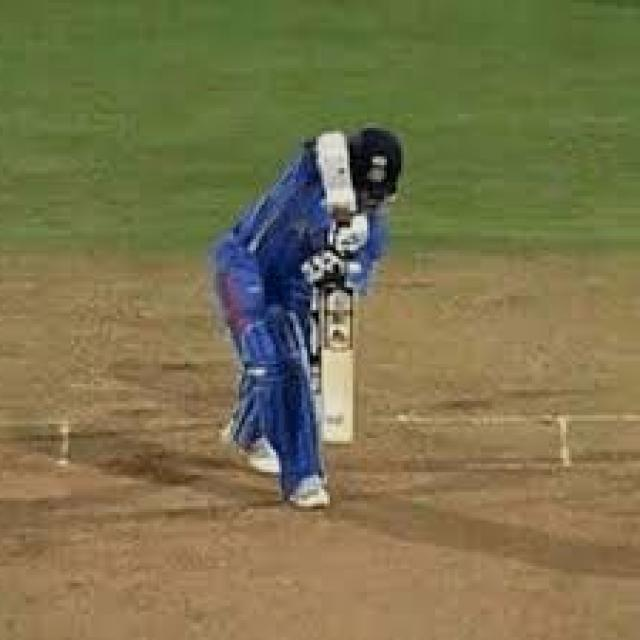bat: (315, 288, 361, 446)
toe: (316, 436, 359, 448)
